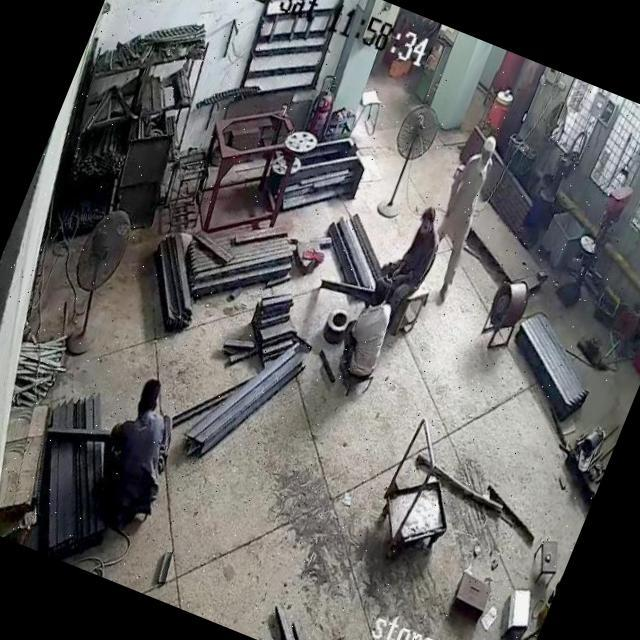person: (74, 370, 204, 549), (408, 118, 516, 309), (371, 202, 455, 330), (328, 274, 409, 398)
